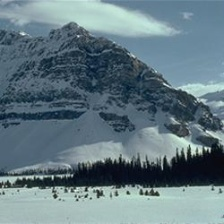neutral: (71, 145, 224, 199)
